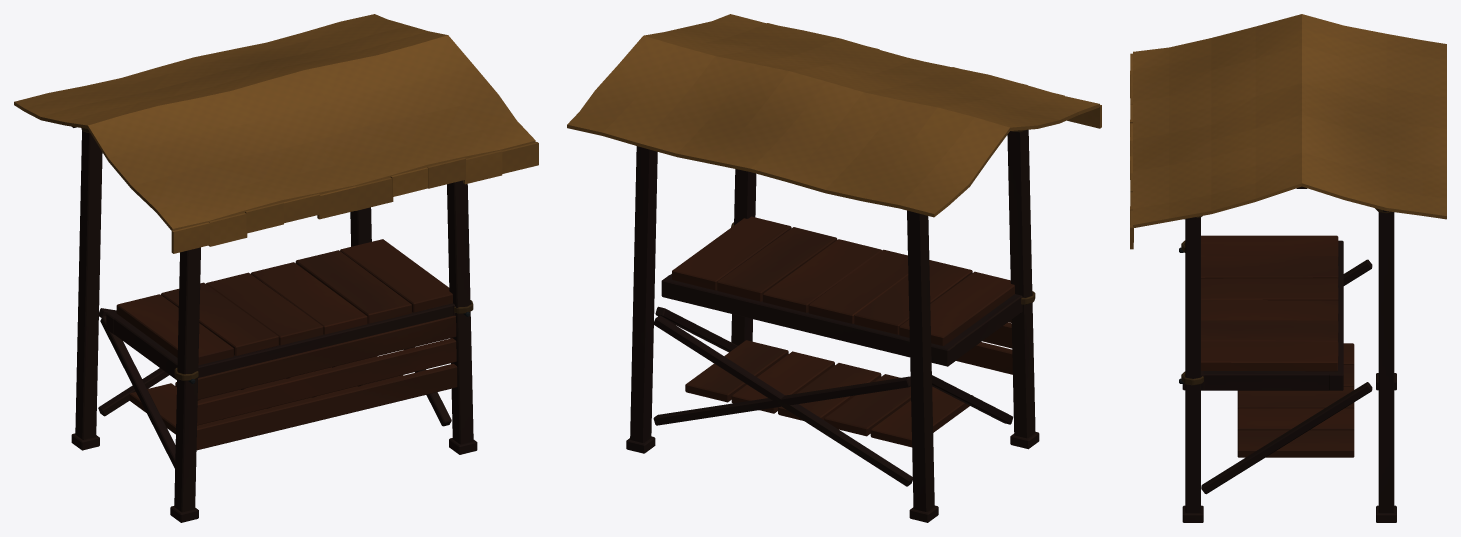
File: market_stall.glb
3 views of the same model, side by side, from view 1: azimuth 30°, elevation 25°; view 2: azimuth 150°, elevation 25°; view 3: azimuth 270°, elevation 25° (orthographic). The views are drawn at different scales.
Parts seen in each view (by area): view 1: CanvasAwning, StallFrame; view 2: StallFrame, CanvasAwning; view 3: CanvasAwning, StallFrame.
Boxes of the visible parts, left/top/right/bottom form: CanvasAwning: left=14, top=14, right=538, bottom=253; StallFrame: left=71, top=126, right=477, bottom=522; StallFrame: left=626, top=129, right=1039, bottom=522; CanvasAwning: left=567, top=14, right=1101, bottom=217; CanvasAwning: left=1130, top=14, right=1446, bottom=249; StallFrame: left=1179, top=186, right=1396, bottom=522.
Size of the model in its own units: 2.06 by 1.95 by 1.57.
5 materials, 5 textured.
